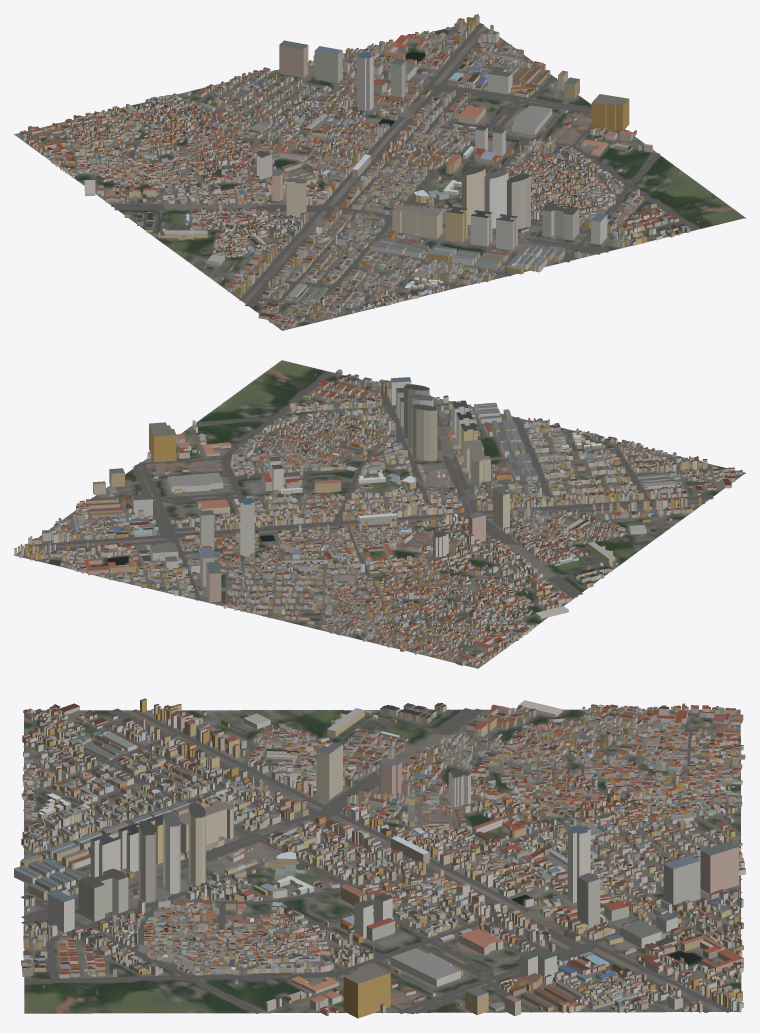
The picture shows the model from 3 angles, top to bottom: view 1: azimuth 30°, elevation 25°; view 2: azimuth 150°, elevation 25°; view 3: azimuth 270°, elevation 25°; orthographic projection. The views are drawn at different scales.
Visible parts, largest first — view 1: buildings, ground, roads; view 2: buildings, ground, roads; view 3: buildings, ground, roads.
Part boxes in pixels (bbox=[...]): buildings: bbox=[20, 14, 704, 329]; ground: bbox=[14, 22, 745, 330]; roads: bbox=[14, 23, 699, 328]; buildings: bbox=[14, 369, 742, 666]; ground: bbox=[14, 360, 745, 668]; roads: bbox=[20, 371, 741, 668]; buildings: bbox=[14, 698, 745, 1018]; ground: bbox=[24, 709, 741, 1013]; roads: bbox=[20, 708, 742, 1013].
Bounding box in the file's own units: 1456 × 156 × 1431.
